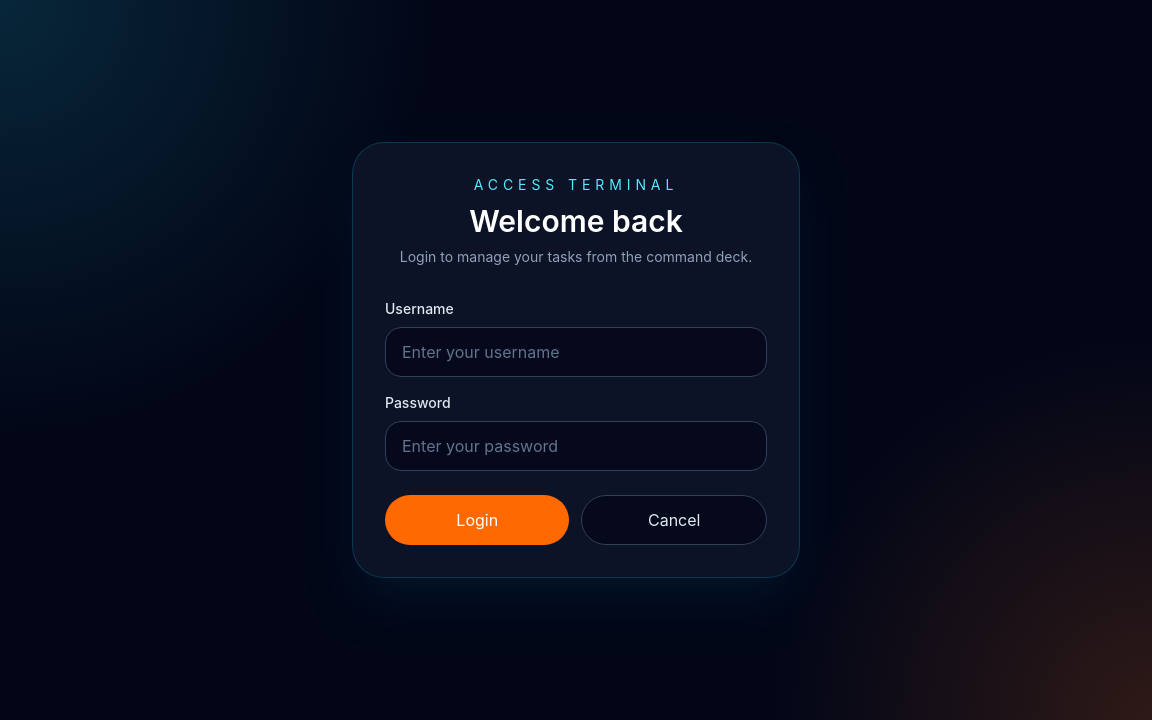
LoginForm › failed login clears inputs and does not change view
In the field with test id "username-input": (576, 352) x1=385 y1=327 x2=767 y2=377, type "amir"
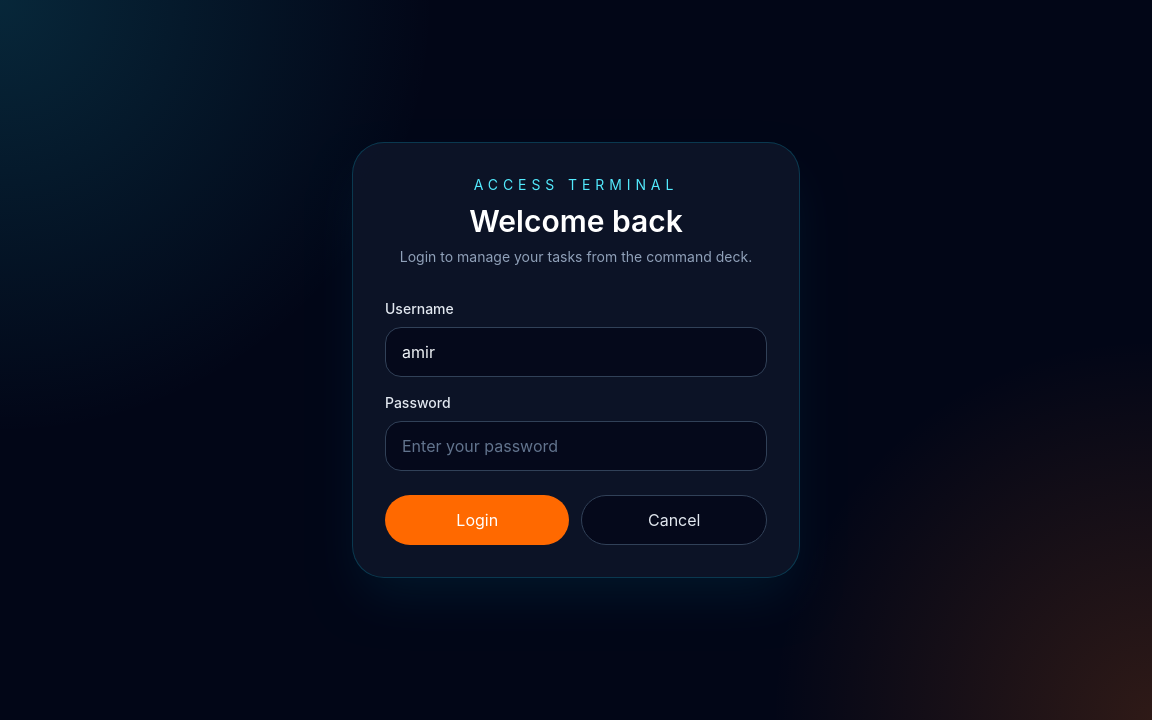
In the password field with test id "password-input": (576, 446) x1=385 y1=421 x2=767 y2=471, type "wrongpassword"
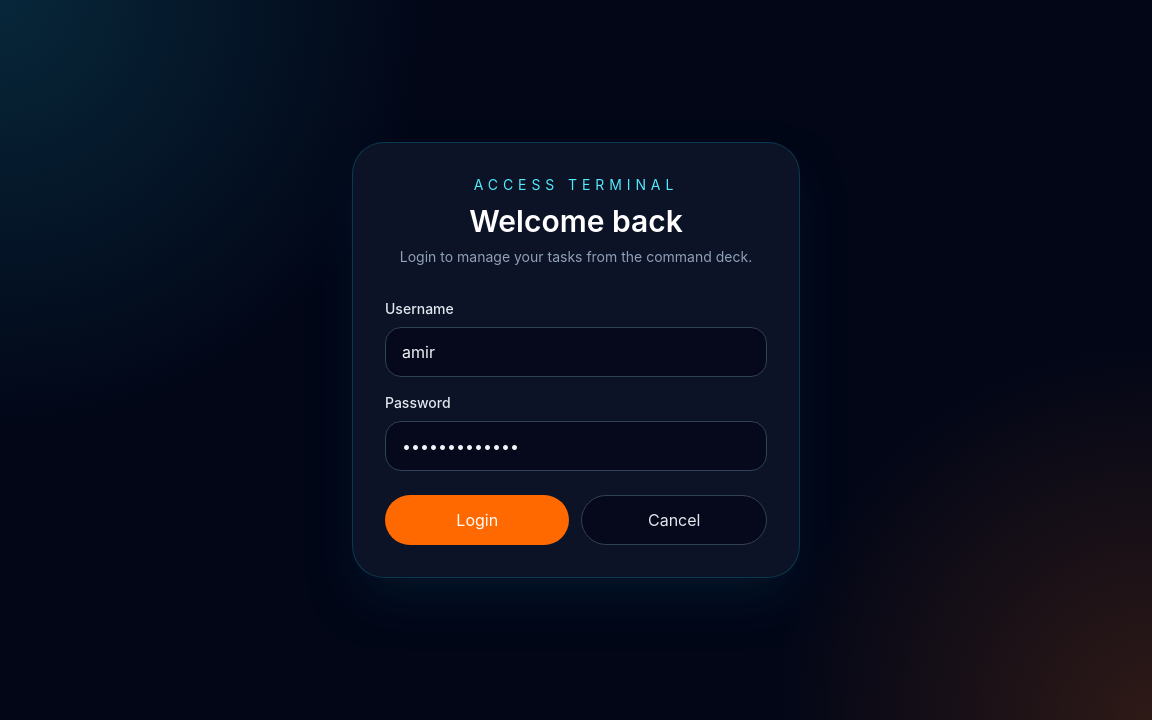
Click the button with test id "logform-login-button": (477, 520) x1=385 y1=495 x2=569 y2=545
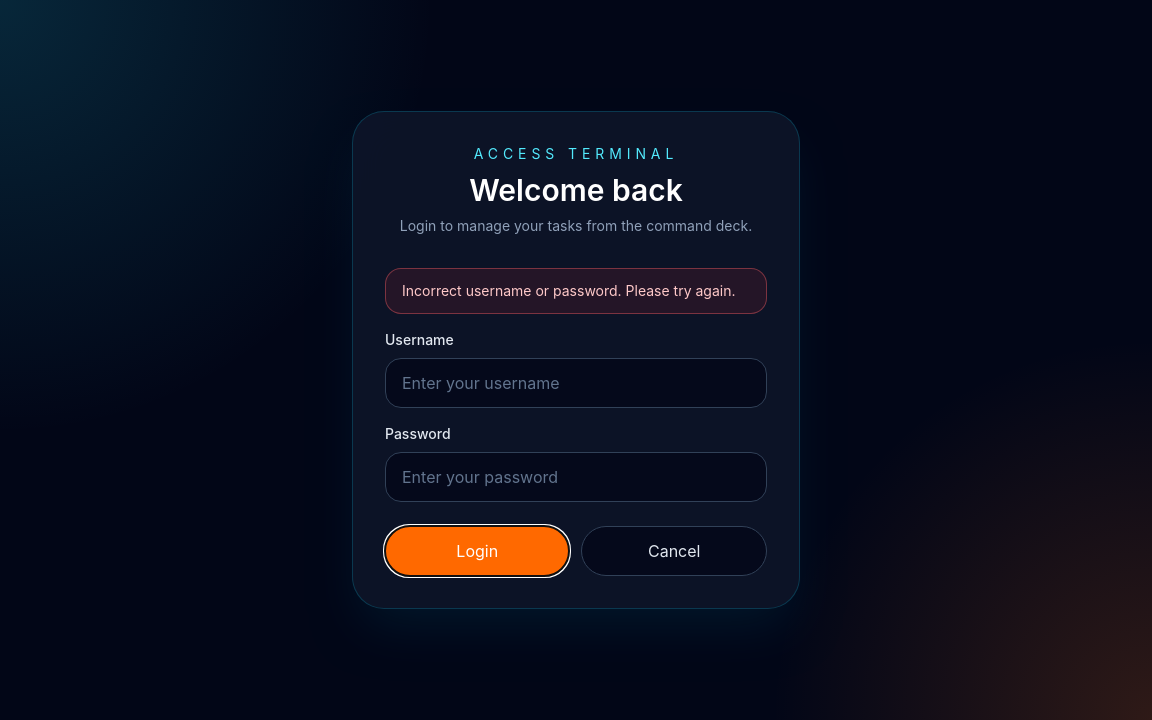
Expected: the field with test id "username-input" is empty, x1=385 y1=358 x2=767 y2=408
Expected: the password field with test id "password-input" is empty, x1=385 y1=452 x2=767 y2=502
Expected: the message reads "Incorrect username or password. Please try again.", x1=402 y1=282 x2=735 y2=299
